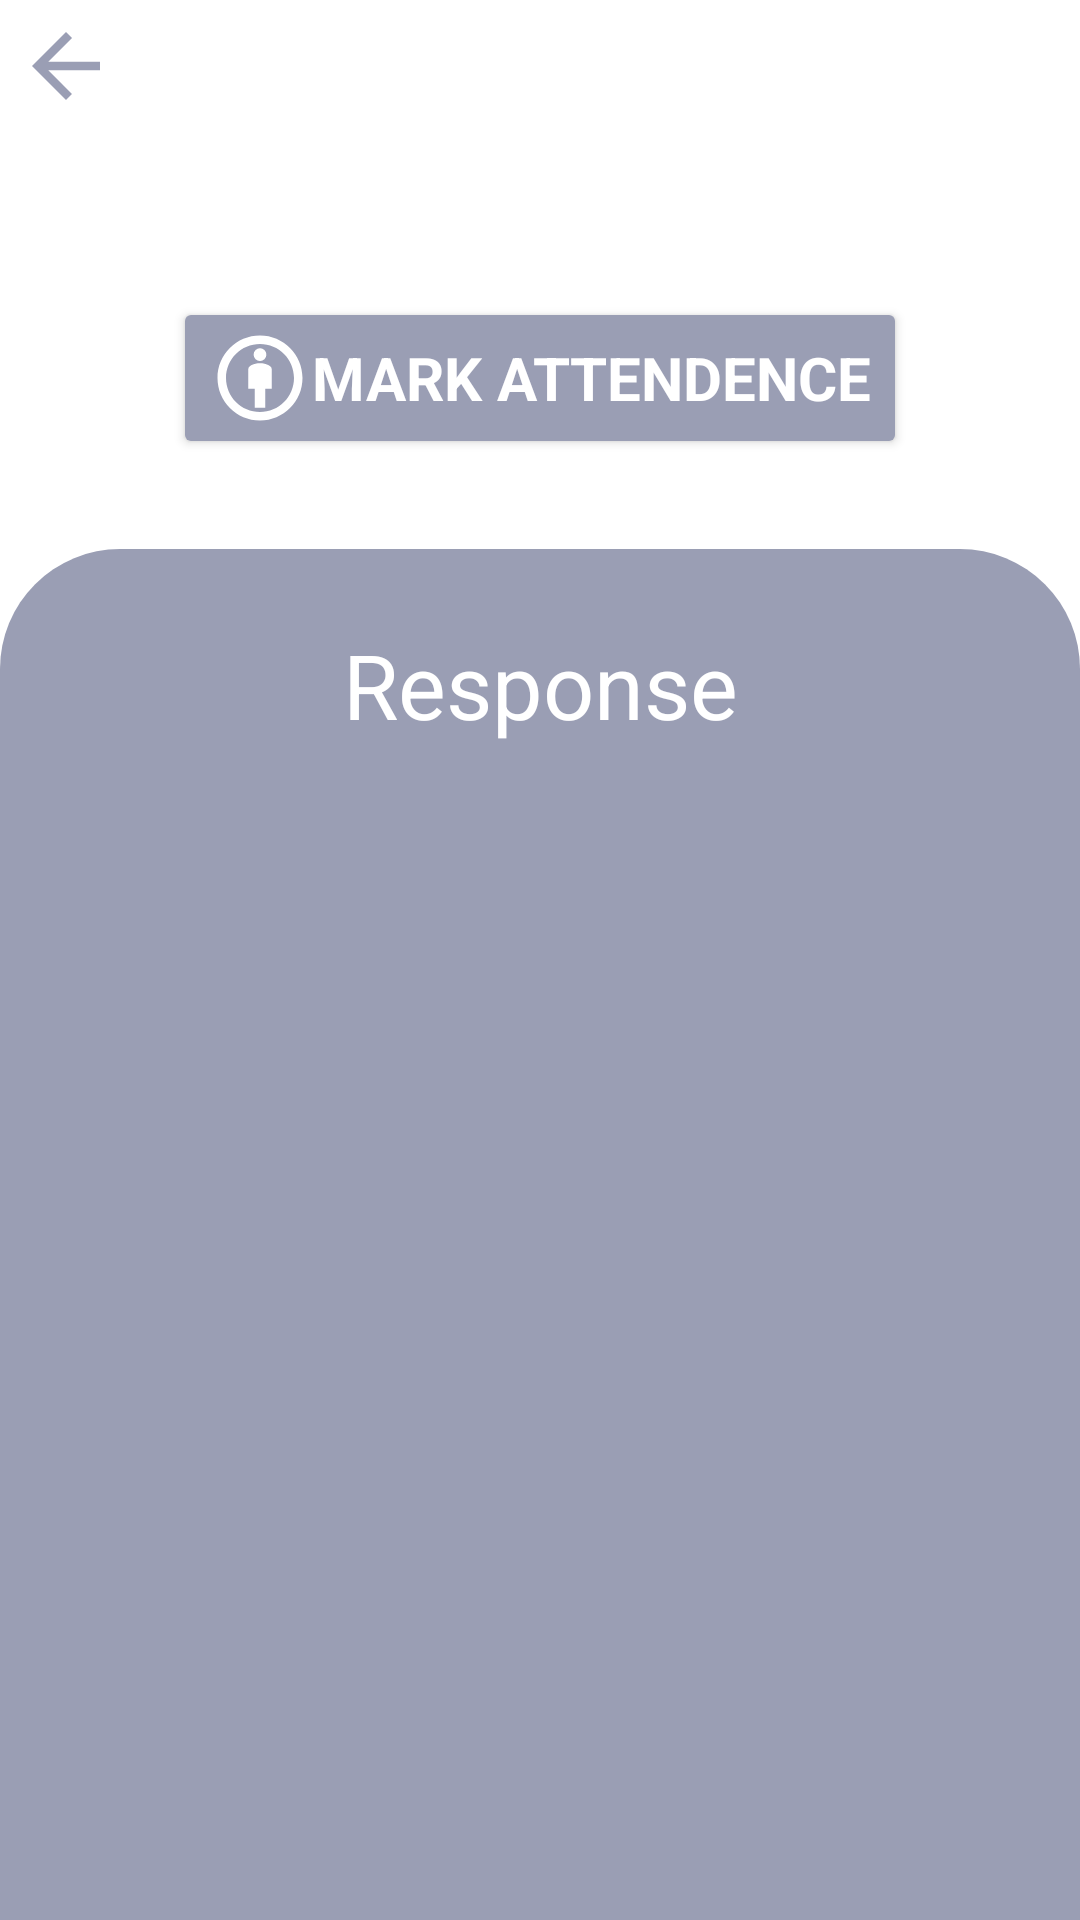

Named icons in this screenshot (1080 × 1920) and their centers, (x=x, y=y):
arrow back: (x=66, y=66)
